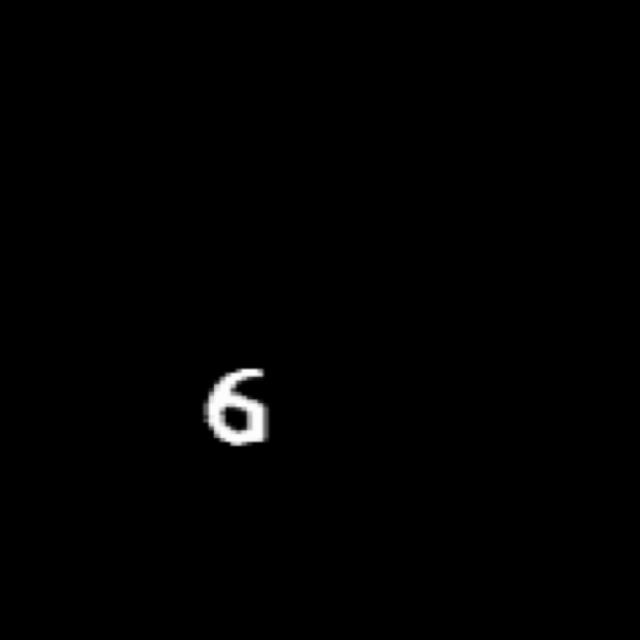six -6-: (198, 360, 283, 456)
